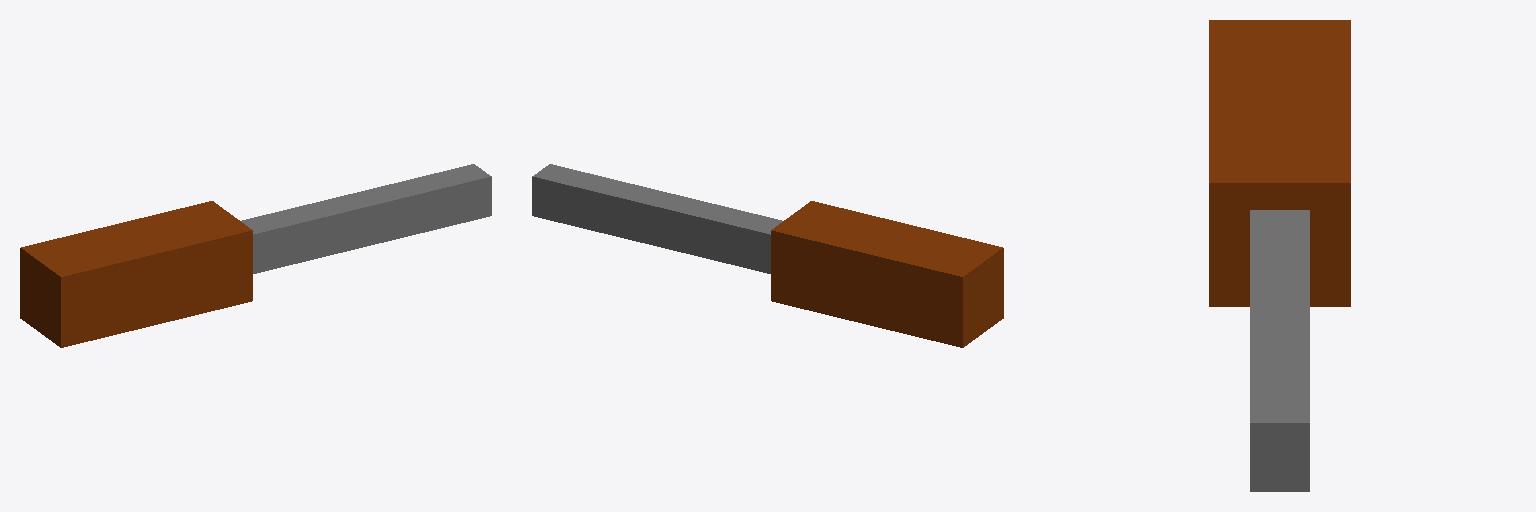
URDF robot description (handle_head):
<?xml version="1.0"?>
<robot name="handle_head">

  <link name="handle_head">
    <!-- Handle -->
    <visual>
              <origin xyz="0 0 0" rpy="0 0 0"/>
        <geometry>
          <box size="0.07255371024610996 0.026557836663718963 0.025628275327686932"/>
        </geometry>
        
      <material name="brown">
        <color rgba="0.55 0.27 0.07 1.0"/>
      </material>
    </visual>
    <collision>
              <origin xyz="0 0 0" rpy="0 0 0"/>
        <geometry>
          <box size="0.07255371024610996 0.026557836663718963 0.025628275327686932"/>
        </geometry>
        
    </collision>

    <!-- Head -->
    <visual>
              <origin xyz="0.08354651045279726 0 0" rpy="0 0 0"/>
        <geometry>
          <box size="0.09453931065948455 0.011346567825292475 0.014324203321164176"/>
        </geometry>
        
      <material name="gray">
        <color rgba="0.5 0.5 0.5 1.0"/>
      </material>
    </visual>
    <collision>
              <origin xyz="0.08354651045279726 0 0" rpy="0 0 0"/>
        <geometry>
          <box size="0.09453931065948455 0.011346567825292475 0.014324203321164176"/>
        </geometry>
        
    </collision>

    <inertial>
      <origin xyz="0.04060574192176044 0 0" rpy="0 0 0"/>
      <mass value="0.0448742484211373"/>
      <inertia ixx="3.2249468727256544e-06" iyy="0.00010624177306216088" izz="0.00010619608388439692" ixy="0" ixz="0" iyz="0"/>
    </inertial>
  </link>

</robot>

--- Render facts (derived) ---
The picture shows the robot from 3 angles, left to right: view 1: azimuth 30°, elevation 25°; view 2: azimuth 150°, elevation 25°; view 3: azimuth 270°, elevation 25°; orthographic projection.
Model handle_head with 1 links and 0 joints (none), rooted at handle_head, posed every joint at zero.
Visible links, largest first — view 1: handle_head; view 2: handle_head; view 3: handle_head.
Boxes of the visible links, x1=… form: handle_head: x1=20, y1=164, x2=491, y2=347; handle_head: x1=532, y1=164, x2=1003, y2=347; handle_head: x1=1209, y1=20, x2=1350, y2=491.
Size in the robot's own frame: 0.1671 by 0.0266 by 0.0256 metres.
Geometry: primitives only (box / cylinder / sphere), no mesh files.
